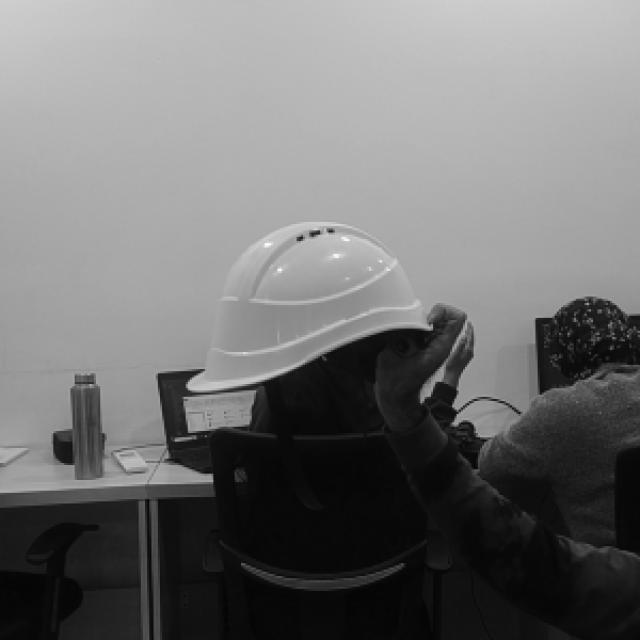safety_helmet: (186, 220, 433, 394)
